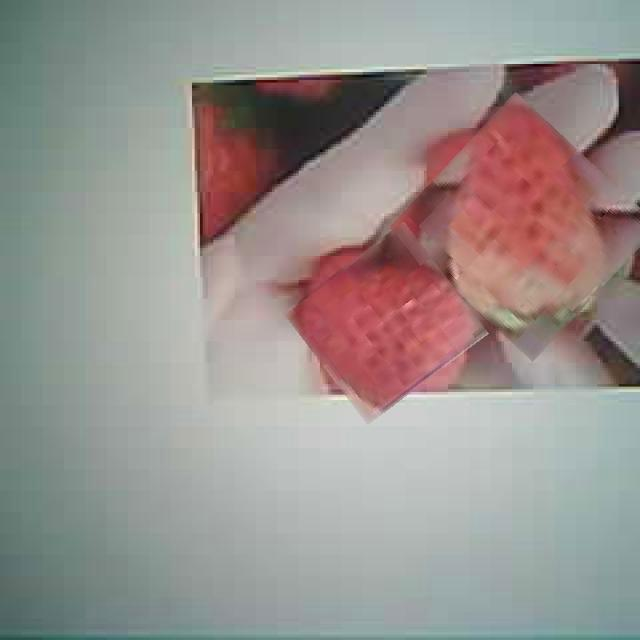strawberry: (409, 113, 640, 341), (296, 238, 476, 410)
